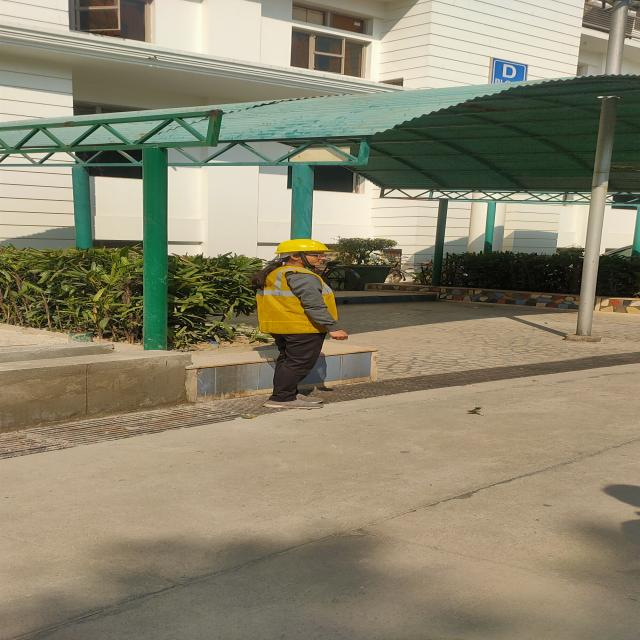safe: (257, 239, 348, 408)
